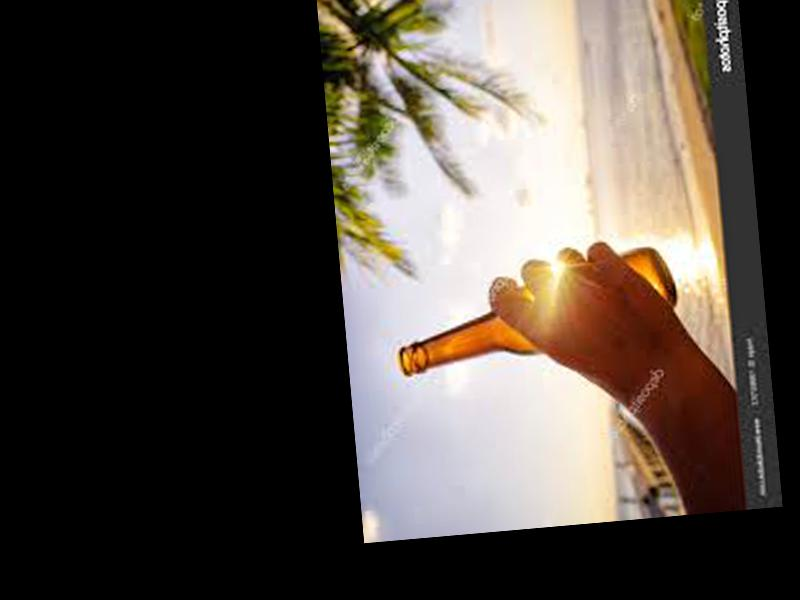Beer: (391, 247, 684, 380)
